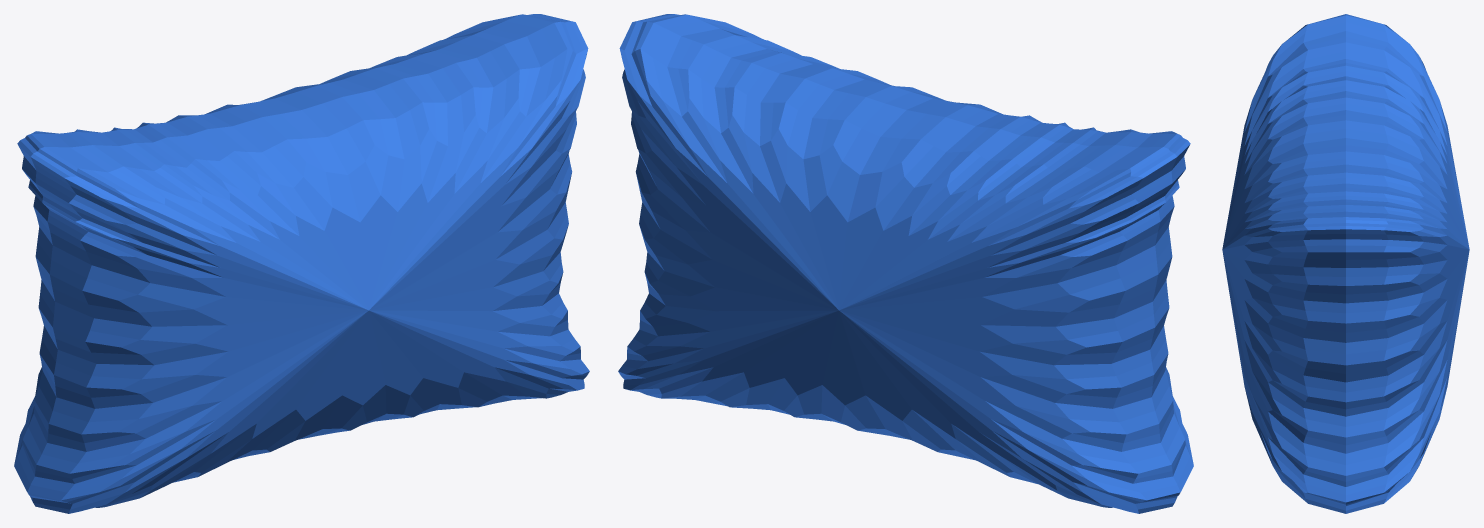
File: Almohada.fbx
The picture shows the model from 3 angles, left to right: view 1: azimuth 30°, elevation 25°; view 2: azimuth 150°, elevation 25°; view 3: azimuth 270°, elevation 25°; orthographic projection. The views are drawn at different scales.
Visible parts, largest first — view 1: Almohada; view 2: Almohada; view 3: Almohada.
Part boxes in pixels (box(x1,y1,x2,y2)): Almohada: box(14, 14, 589, 513); Almohada: box(618, 14, 1193, 513); Almohada: box(1222, 14, 1469, 513).
Bounding box in the file's own units: 1010 × 631 × 486.
